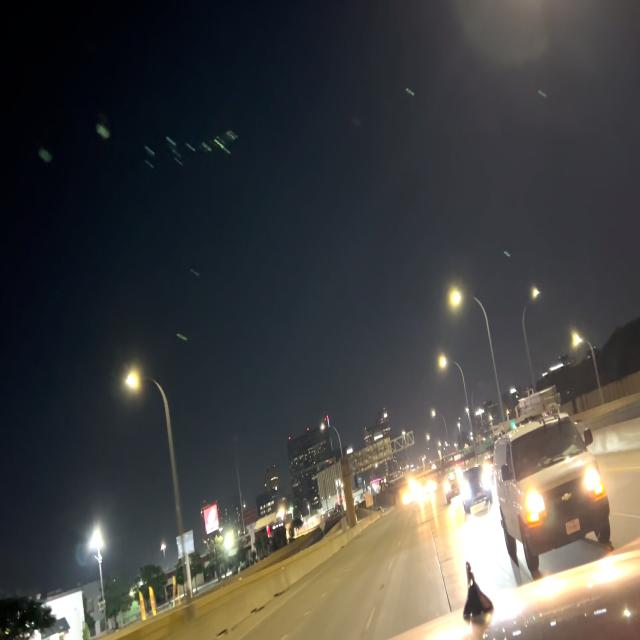back-of-sign: (353, 437, 394, 471)
